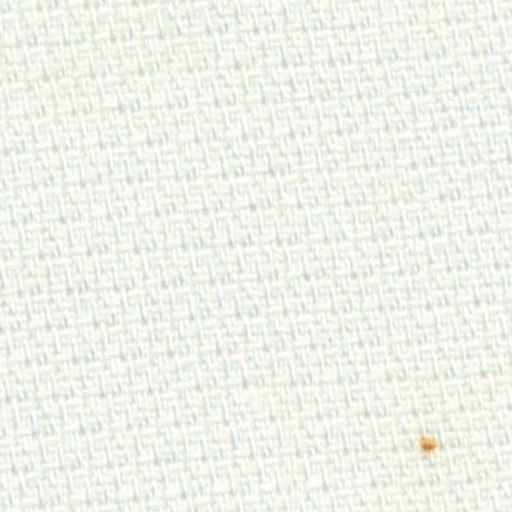WuZi: (399, 413, 457, 473)
